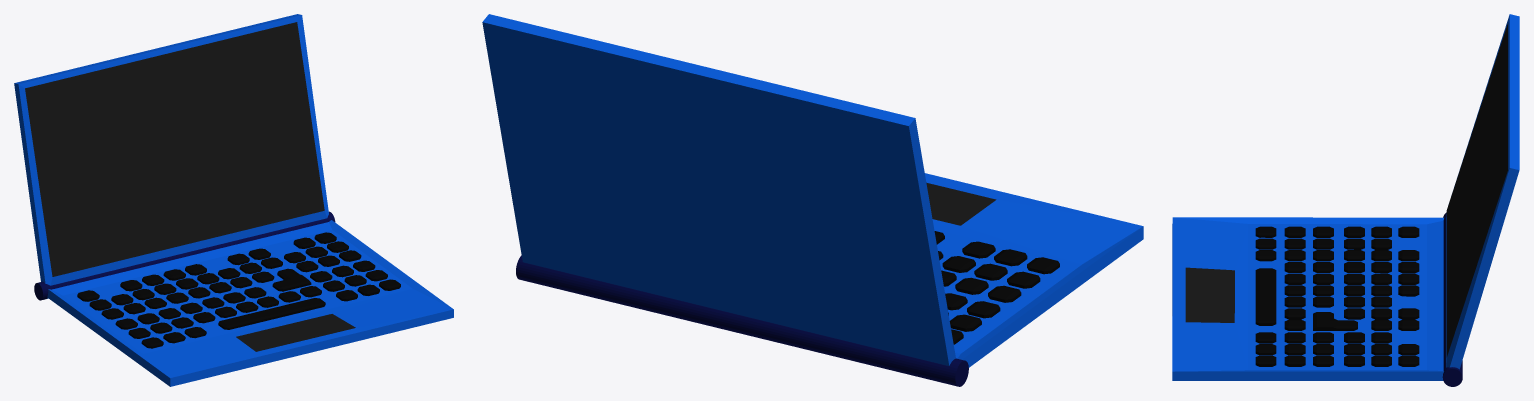
The model's file is laptop.fbx.
The picture shows the model from 3 angles, left to right: view 1: azimuth 30°, elevation 25°; view 2: azimuth 150°, elevation 25°; view 3: azimuth 270°, elevation 25°; orthographic projection. The views are drawn at different scales.
Parts seen in each view (by area): view 1: Plate; view 2: Plate; view 3: Plate.
Boxes of the visible parts, bbox=[...] form: Plate: bbox=[14, 14, 453, 386]; Plate: bbox=[482, 14, 1143, 386]; Plate: bbox=[1172, 14, 1519, 386].
Size of the model in its own units: 727 by 465 by 673.
